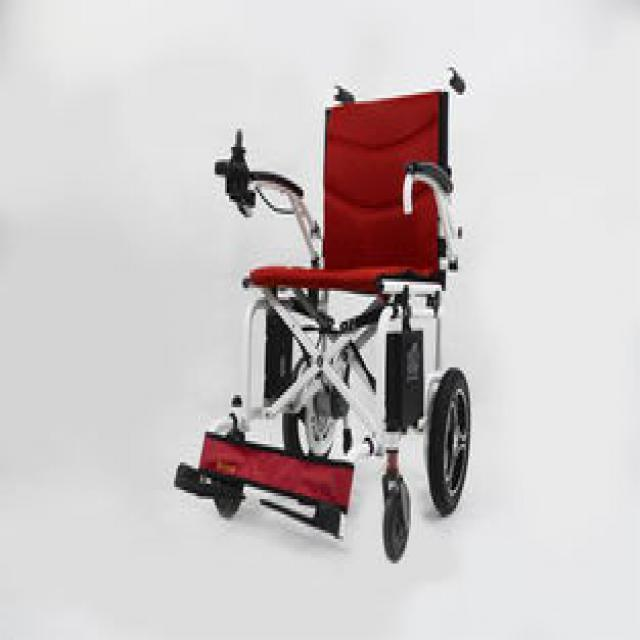wheelchair: (170, 21, 514, 585)
